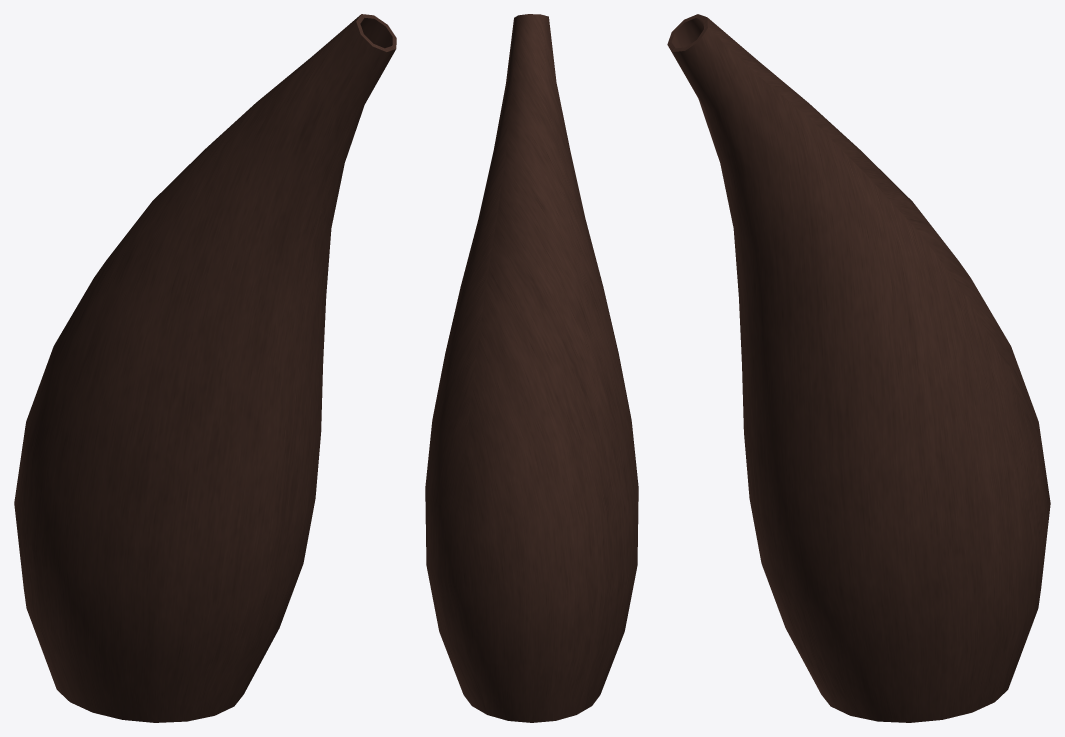
Rendered from VaseDecorativeB.fbx.
The picture shows the model from 3 angles, left to right: view 1: azimuth 30°, elevation 25°; view 2: azimuth 150°, elevation 25°; view 3: azimuth 270°, elevation 25°; orthographic projection. The views are drawn at different scales.
Parts seen in each view (by area): view 1: VaseDecorativeB; view 2: VaseDecorativeB; view 3: VaseDecorativeB.
Boxes of the visible parts, x1,y1,x2,y2 form: VaseDecorativeB: (14, 14, 396, 722); VaseDecorativeB: (425, 14, 638, 722); VaseDecorativeB: (667, 14, 1050, 722).
Size of the model in its own units: 14.69 by 41.37 by 19.93.
